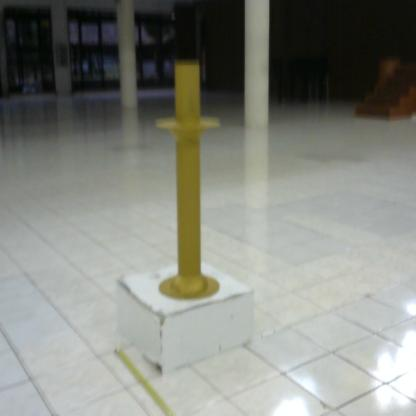pole: (145, 54, 228, 306)
